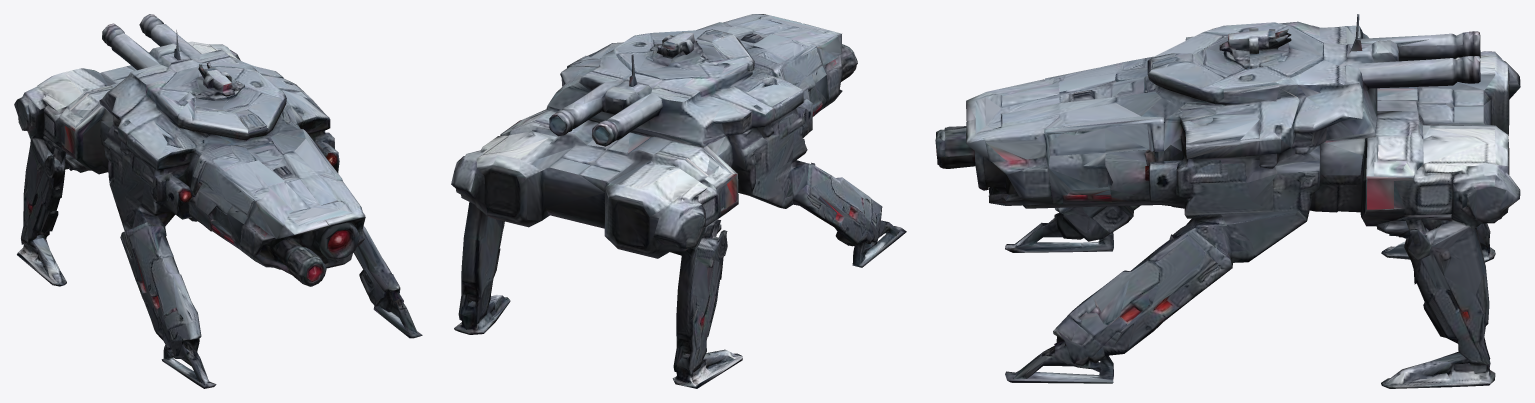
File: t243_eaa_lod0m.glb
3 renders of one model, left to right at view 1: azimuth 30°, elevation 25°; view 2: azimuth 150°, elevation 25°; view 3: azimuth 270°, elevation 25°, orthographic. The views are drawn at different scales.
Size of the model in its own units: 2.62 by 2.65 by 4.6.
Materials: 1 (1 with a texture image).
